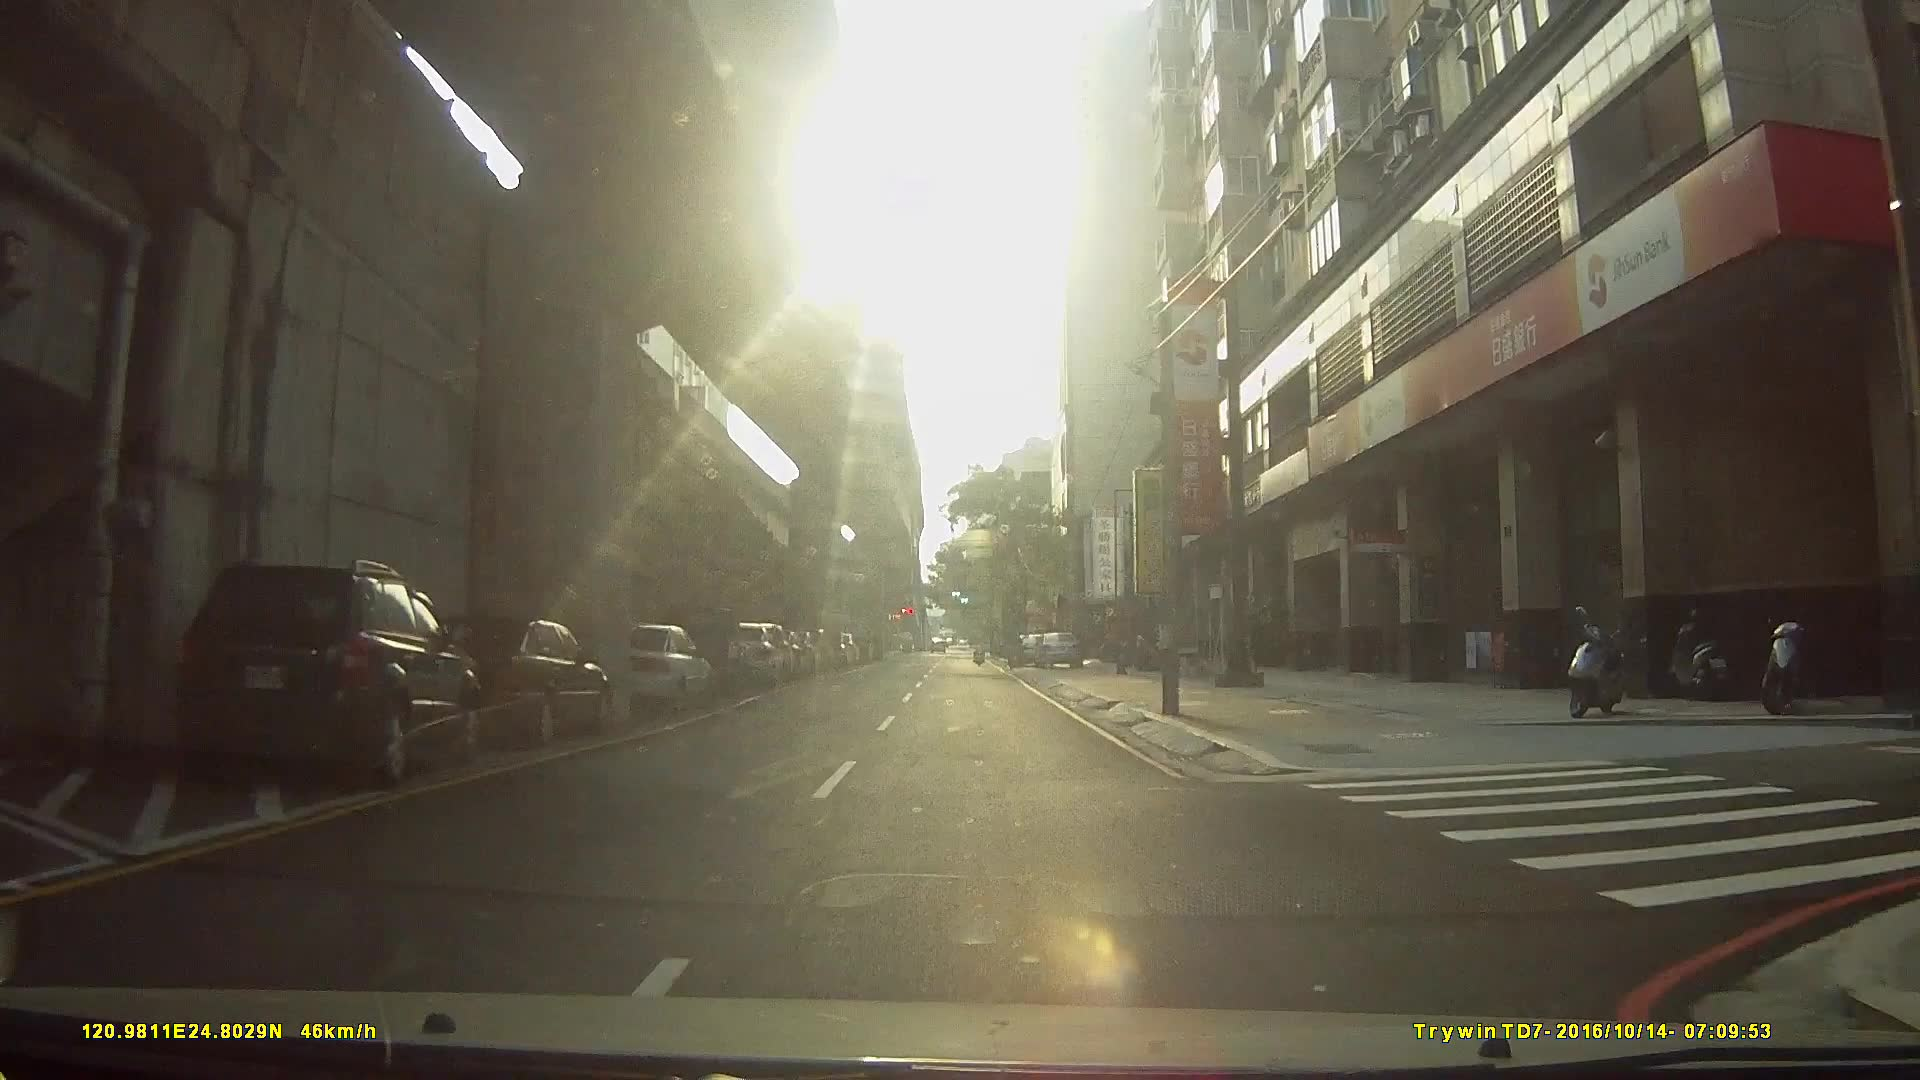vehicle: (171, 556, 480, 793), (425, 611, 615, 749), (604, 620, 716, 717), (659, 620, 794, 670), (1030, 626, 1083, 669)
